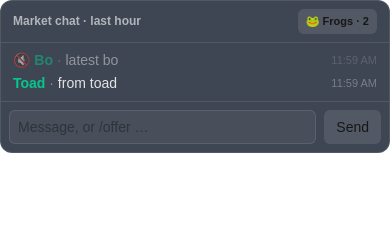
MarketChatPanel · Frogs › keeps only a muted player's latest line, marked, and marks them in the Frogs list
Expected: the text "latest bo" is shown, [66, 52, 118, 68]
Expected: the text "from toad" is shown, [58, 75, 117, 91]
Click the button "🐸 Frogs · 2".
click(337, 21)  # box [298, 9, 377, 34]
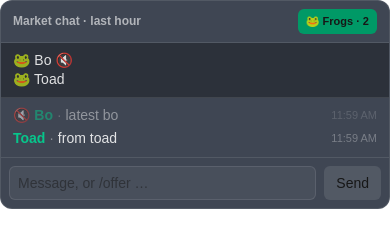
Expected: the number of pictures named "Muted" is 2, [55, 52, 73, 68]; [13, 107, 30, 123]
